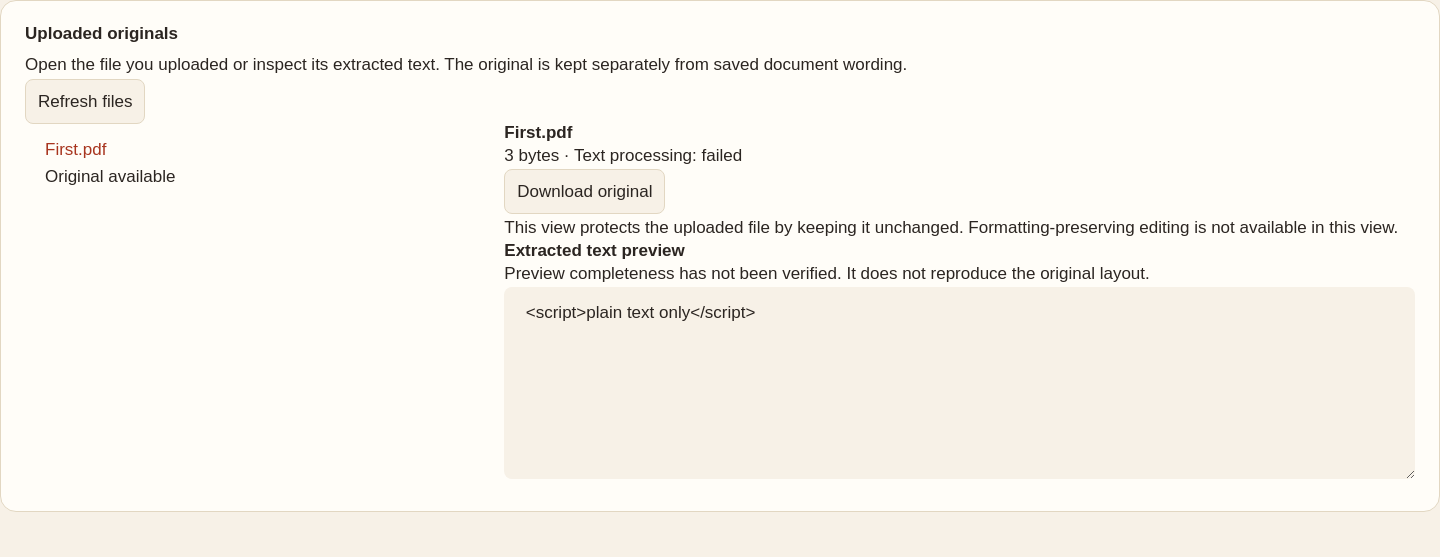
Scenario: retained workspace originals › prepares an ephemeral verified download with truthful wording
The image size is (1440, 557).
Click the button "Download original" at (585, 192), box [504, 169, 665, 214]
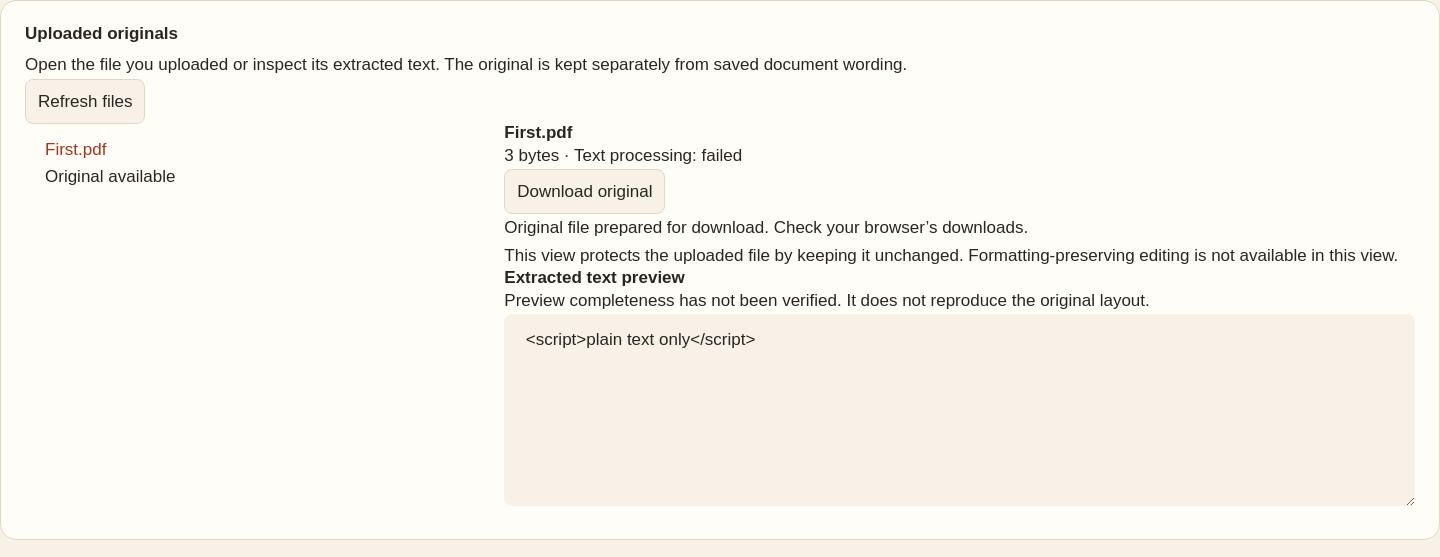
expect the message shows "prepared for download": met, box [504, 218, 1028, 238]
